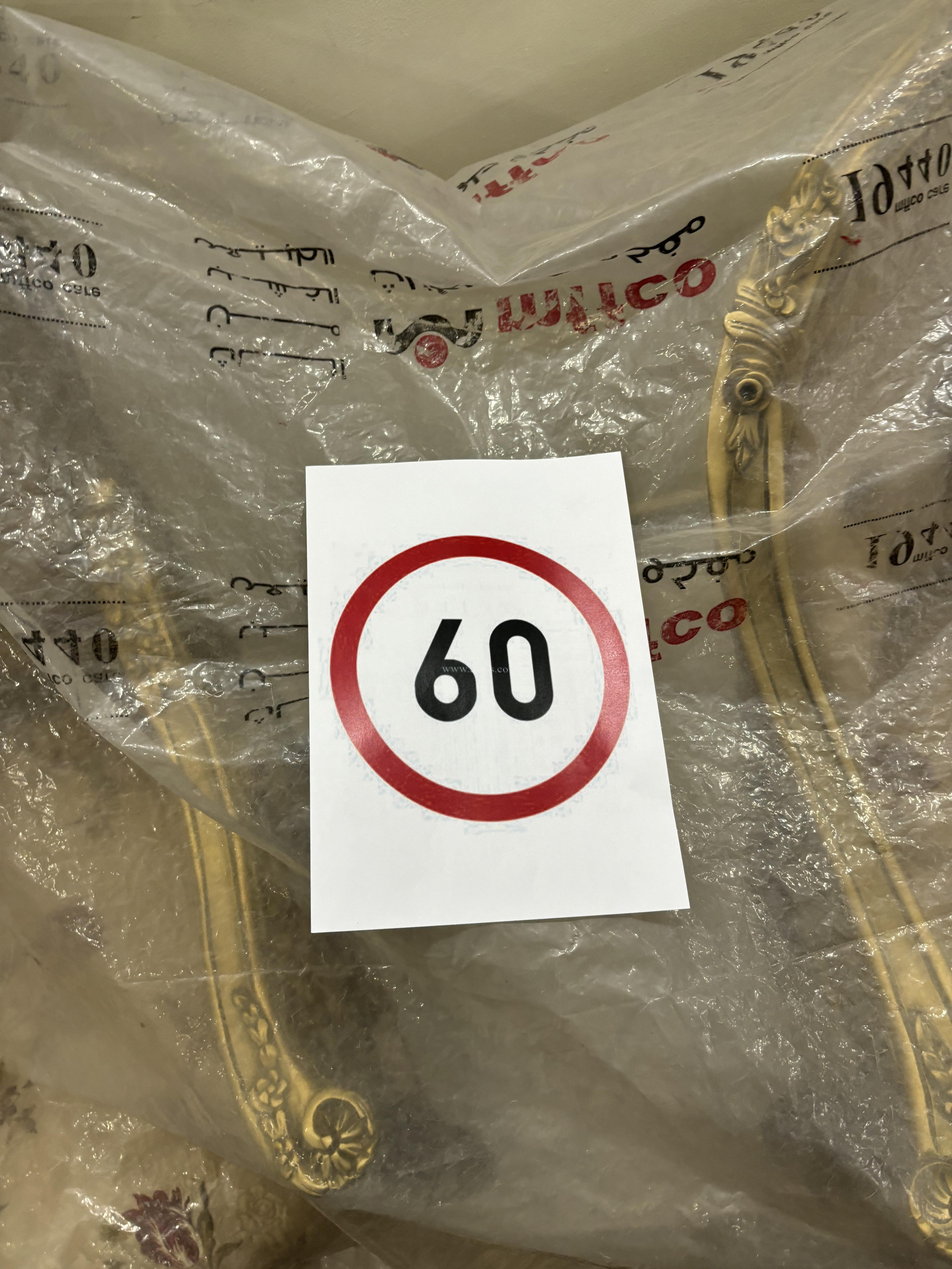60-Speed: (329, 529, 641, 824)
